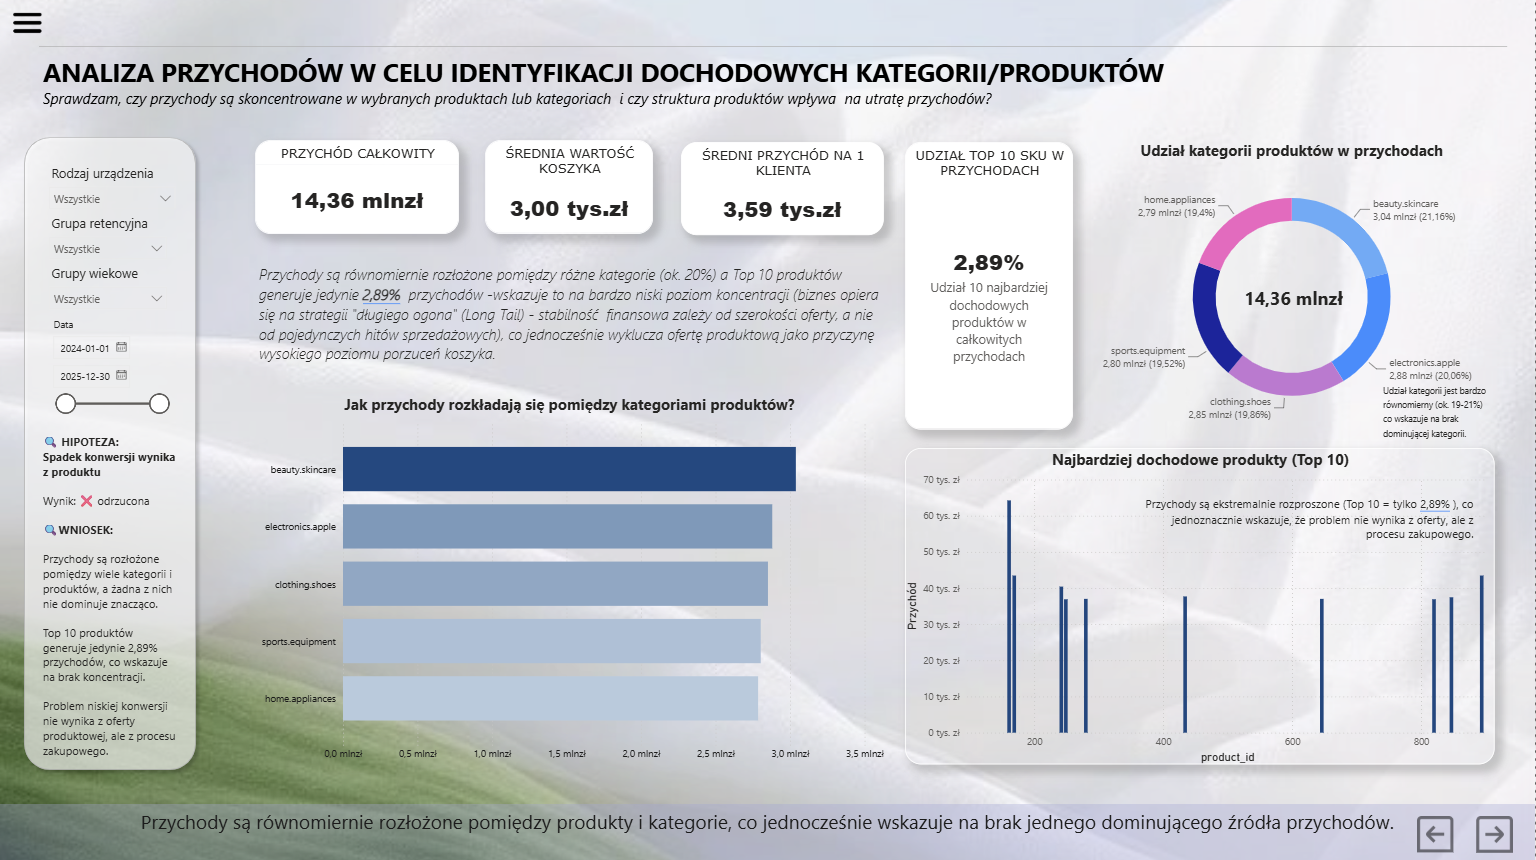

What the dashboard file says about the page in this screenshot:
{"tool":"powerbi","page":{"name":"ANALIZA PRZYCHODÓW","canvas":[1920,1080],"ordinal":4},"visuals":[{"type":"shape","box":[23.5,164.7,232.4,808.8],"z":1000},{"type":"cardVisual","title":"ŚREDNIA WARTOŚĆ KOSZYKA","fields":{"Data":["KPI.# AOV"]},"box":[607.5,177.5,210,117.5],"z":2000},{"type":"cardVisual","title":"PRZYCHÓD CAŁKOWITY","fields":{"Data":["KPI.# Revenue"]},"box":[320,177.5,255,117.5],"z":3000},{"type":"cardVisual","title":"ŚREDNI PRZYCHÓD NA 1 KLIENTA","fields":{"Data":["KPI.# Revenue per User"]},"box":[853.5,179.1,253.5,116.3],"z":4000},{"type":"clusteredBarChart","title":"Jak przychody rozkładają się pomiędzy kategoriami produktów?","fields":{"Category":["fact_ecommerce.category_code"],"Y":["KPI.# Revenue"]},"box":[320.9,495.3,786,462.8],"z":5000},{"type":"columnChart","title":"Najbardziej dochodowe produkty (Top 10)","fields":{"Category":["fact_ecommerce.product_id"],"Y":["KPI.# Revenue"]},"box":[1132.6,562.8,737.2,395.3],"z":6000},{"type":"textbox","box":[0,1008.3,1920.8,70.8],"z":7000},{"type":"textbox","box":[53.8,69.2,1817.9,94.9],"z":8000},{"type":"shape","box":[0,138.7,279,869.4],"z":9000},{"type":"textbox","box":[320.6,326.5,785.3,147.1],"z":10000},{"type":"donutChart","title":"Udział kategorii produktów w przychodach","fields":{"Category":["fact_ecommerce.category_code"],"Y":["KPI.# Revenue"]},"box":[1366.1,178,501.7,362.7],"z":11000},{"type":"cardVisual","title":"UDZIAŁ TOP 10 SKU W PRZYCHODACH","fields":{"Data":["KPI.# Top 10 % Revenue"]},"box":[1132.2,179.7,210.2,359.3],"z":12000},{"type":"textbox","box":[1725.4,474.6,147.6,88.9],"z":13000},{"type":"textbox","box":[50,650,178.6,310.7],"z":14000},{"type":"textbox","box":[1425.6,616.3,423.3,81.4],"z":15000},{"type":"textbox","box":[48.8,539.5,179.1,109.3],"z":16000},{"type":"cardVisual","fields":{"Data":["KPI.# Revenue"]},"box":[1527.1,316.9,198.3,111.9],"z":17000},{"type":"slicer","fields":{"Values":["fact_ecommerce.device"]},"box":[53.1,203.1,178.1,60.9],"z":18000},{"type":"slicer","fields":{"Values":["users.age_group"]},"box":[53.1,328.1,167.2,67.2],"z":19000},{"type":"slicer","fields":{"Values":["Calendar.Date"]},"box":[53.8,394.9,166.7,125.6],"z":20000},{"type":"slicer","fields":{"Values":["ux_survey.retention_group"]},"box":[53.1,264.1,167.2,64.1],"z":21000},{"type":"textbox","box":[50,54.8,1835.7,45.2],"z":23000},{"type":"image","box":[1742.9,1022.9,105.7,45.7],"z":24000},{"type":"image","box":[1827,1021.6,83.8,45.9],"z":25000},{"type":"image","box":[0,8.2,71.4,46.9],"z":27000}]}

Visuals, with their boxes in screenshot pixels (x1, y1, x2, y2), scaled from the page's 1920x1080 canvas onto the 1536x860 screenshot:
shape: region(19, 131, 205, 775)
"ŚREDNIA WARTOŚĆ KOSZYKA" cardVisual: region(486, 141, 654, 235)
"PRZYCHÓD CAŁKOWITY" cardVisual: region(256, 141, 460, 235)
"ŚREDNI PRZYCHÓD NA 1 KLIENTA" cardVisual: region(683, 143, 886, 235)
"Jak przychody rozkładają się pomiędzy kategoriami produktów?" clusteredBarChart: region(257, 394, 886, 763)
"Najbardziej dochodowe produkty (Top 10)" columnChart: region(906, 448, 1496, 763)
textbox: region(0, 803, 1535, 859)
textbox: region(43, 55, 1497, 131)
shape: region(0, 110, 223, 803)
textbox: region(256, 260, 885, 377)
"Udział kategorii produktów w przychodach" donutChart: region(1093, 142, 1494, 431)
"UDZIAŁ TOP 10 SKU W PRZYCHODACH" cardVisual: region(906, 143, 1074, 429)
textbox: region(1380, 378, 1498, 449)
textbox: region(40, 518, 183, 765)
textbox: region(1140, 491, 1479, 556)
textbox: region(39, 430, 182, 517)
cardVisual - KPI.# Revenue: region(1222, 252, 1380, 341)
slicer - fact_ecommerce.device: region(42, 162, 185, 210)
slicer - users.age_group: region(42, 261, 176, 315)
slicer - Calendar.Date: region(43, 314, 176, 414)
slicer - ux_survey.retention_group: region(42, 210, 176, 261)
textbox: region(40, 44, 1509, 80)
image: region(1394, 815, 1479, 851)
image: region(1462, 813, 1529, 850)
image: region(0, 7, 57, 44)
